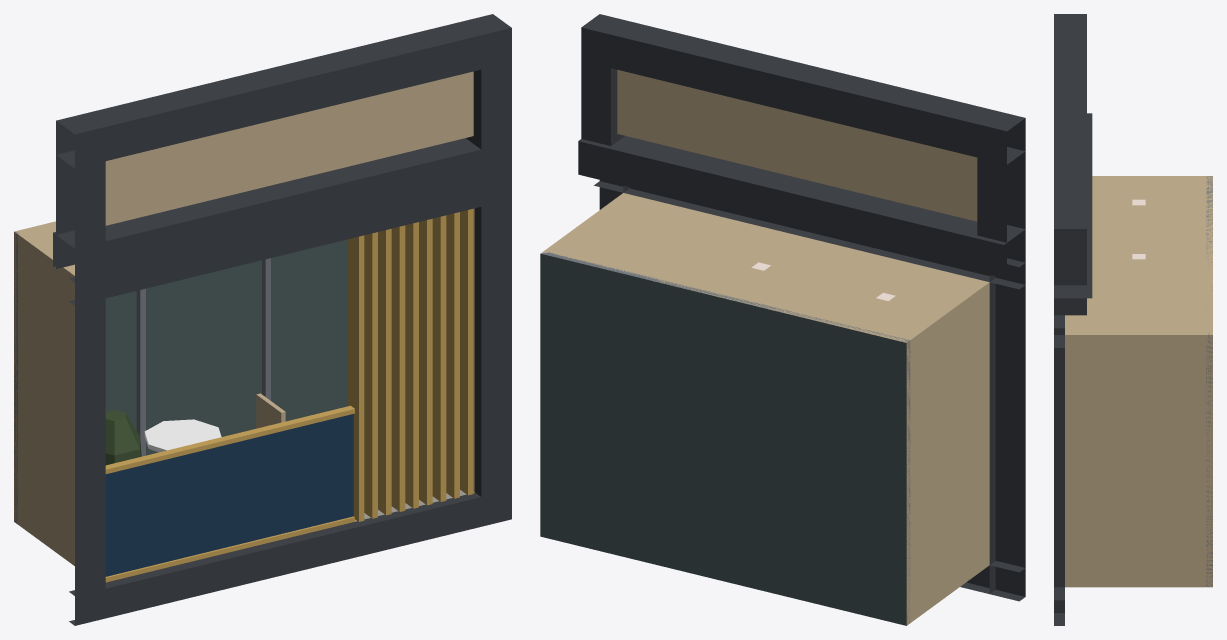
File: top-w1_close.fbx
3 views of the same model, side by side, from view 1: azimuth 30°, elevation 25°; view 2: azimuth 150°, elevation 25°; view 3: azimuth 270°, elevation 25° (orthographic). The views are drawn at different scales.
Parts seen in each view (by area): view 1: a2019/750/top-w1_close; view 2: a2019/750/top-w1_close; view 3: a2019/750/top-w1_close.
Part boxes in pixels (bbox=[...]): a2019/750/top-w1_close: bbox=[14, 14, 511, 625]; a2019/750/top-w1_close: bbox=[540, 14, 1025, 625]; a2019/750/top-w1_close: bbox=[1054, 14, 1212, 625].
Size of the model in its own units: 4 by 4.3 by 1.45.
